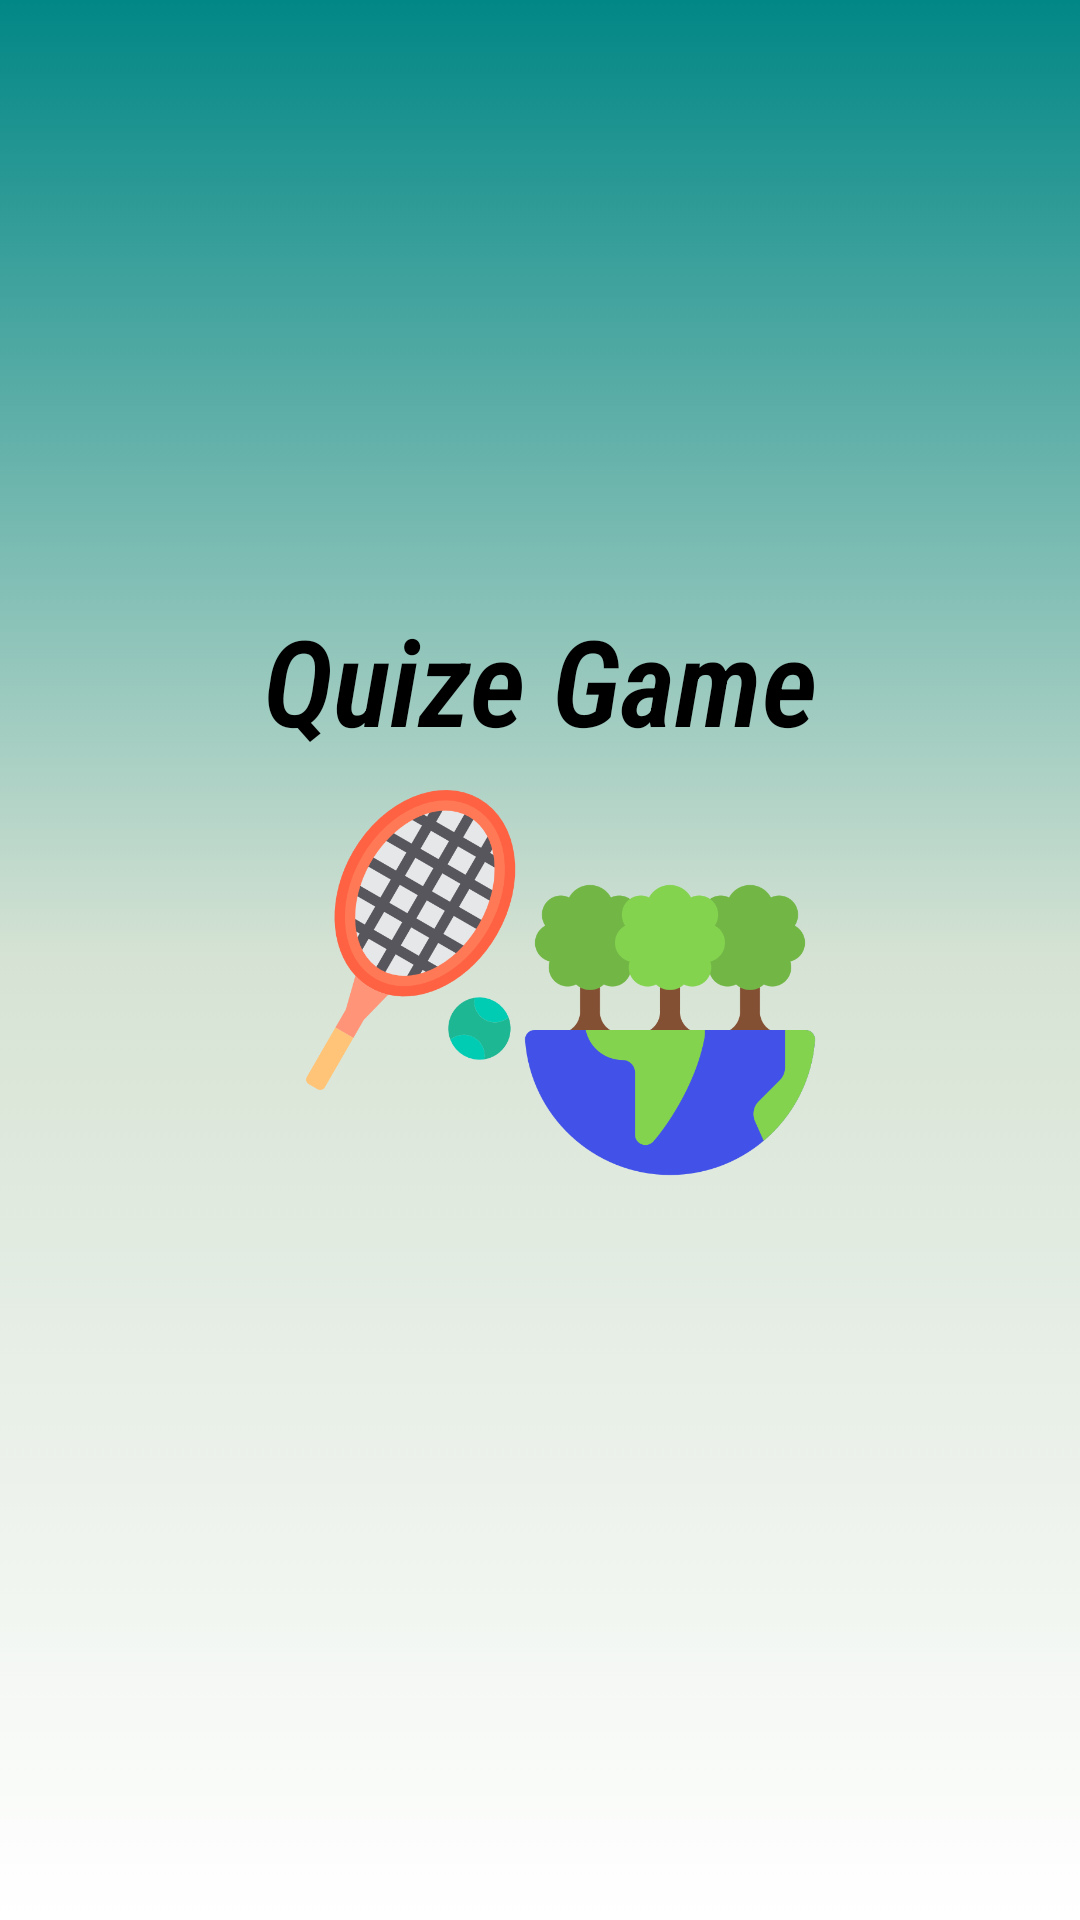

Point at icon controls on the screen. Image size 1080px×1920px, points as (x=x, y=y).
forest: (x=670, y=1030)
tennis: (x=410, y=940)
